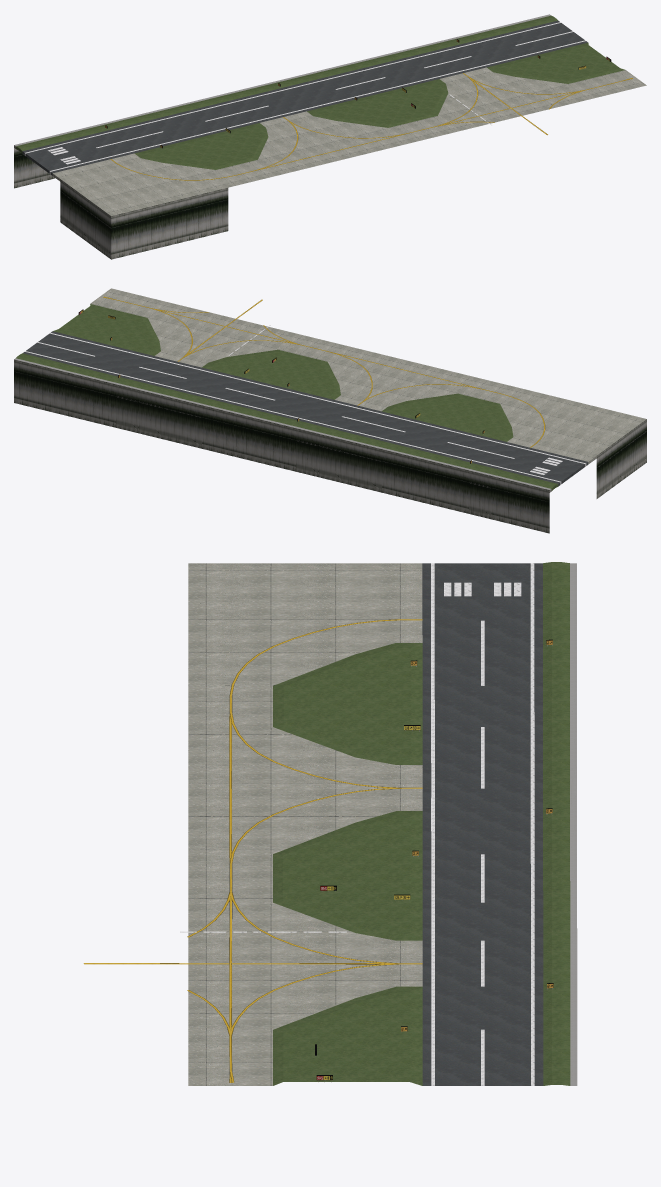
The model's file is airprtgnd_01_sfse.obj.
3 views of the same model, one above another, from view 1: azimuth 30°, elevation 25°; view 2: azimuth 150°, elevation 25°; view 3: azimuth 270°, elevation 25° (orthographic). The views are drawn at different scales.
Parts seen in each view (by area): view 1: airprtgnd_01_SFSe; view 2: airprtgnd_01_SFSe; view 3: airprtgnd_01_SFSe.
Boxes of the visible parts, x1,y1,x2,y2 form: airprtgnd_01_SFSe: [14, 14, 646, 259]; airprtgnd_01_SFSe: [14, 288, 646, 533]; airprtgnd_01_SFSe: [83, 562, 577, 1085].
Size of the model in its own units: 382 by 31.88 by 153.
10 materials, 10 textured.
